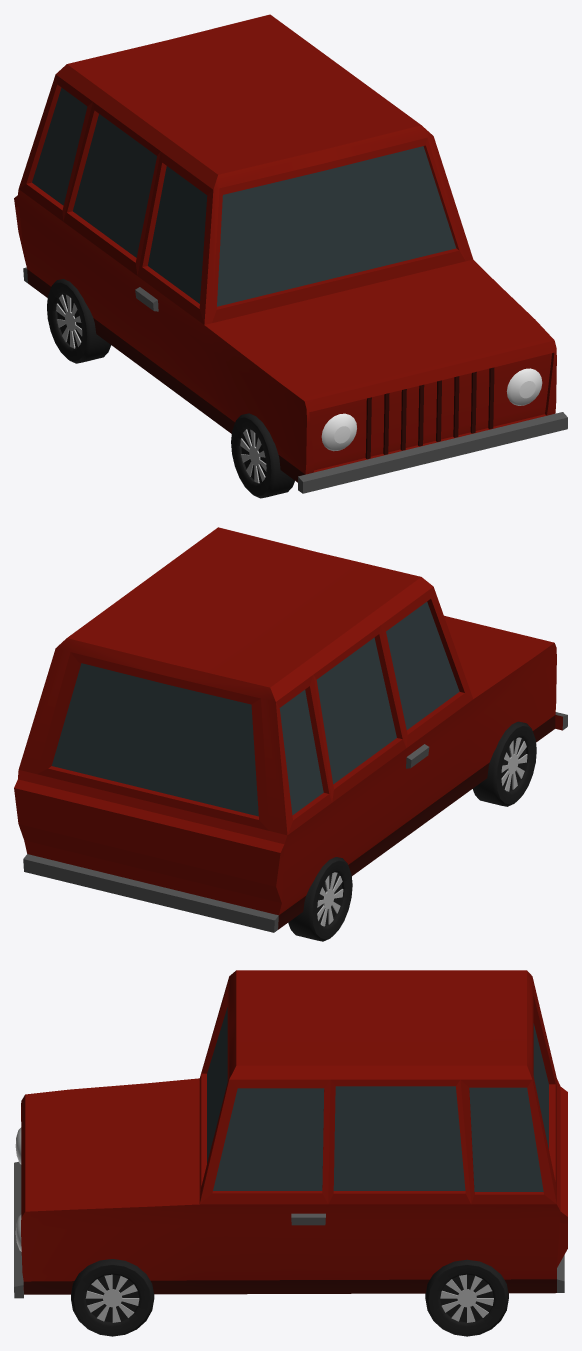
Rendered from car_red.fbx.
3 renders of one model, top to bottom at view 1: azimuth 30°, elevation 25°; view 2: azimuth 150°, elevation 25°; view 3: azimuth 270°, elevation 25°, orthographic. The views are drawn at different scales.
Visible parts, largest first — view 1: Car, Wheel_front_right, Wheel_back_right, Headlight_left, Headlight_right; view 2: Car, Wheel_front_right, Wheel_back_right; view 3: Car, Wheel_front_left, Wheel_back_left.
Boxes of the visible parts, box(x1,y1,x2,y2) form: Car: box(14, 14, 567, 493); Wheel_front_right: box(231, 413, 294, 498); Wheel_back_right: box(47, 279, 110, 363); Headlight_left: box(506, 368, 542, 405); Headlight_right: box(321, 413, 356, 451); Car: box(14, 527, 567, 932); Wheel_front_right: box(473, 721, 536, 806); Wheel_back_right: box(288, 857, 352, 941); Car: box(14, 970, 567, 1298); Wheel_front_left: box(71, 1259, 154, 1336); Wheel_back_left: box(425, 1259, 508, 1336).
Size of the model in its own units: 4.4 by 4.06 by 7.94.
